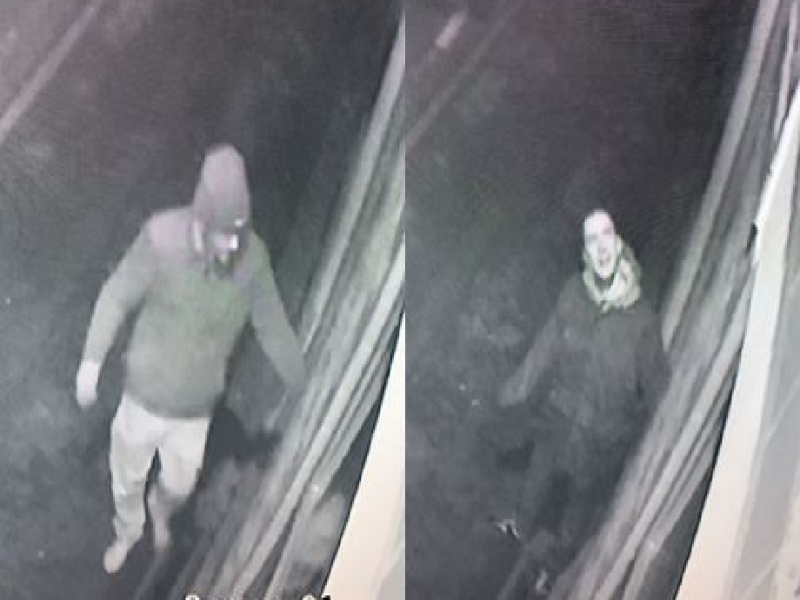person: (74, 141, 310, 578), (496, 207, 673, 553)
